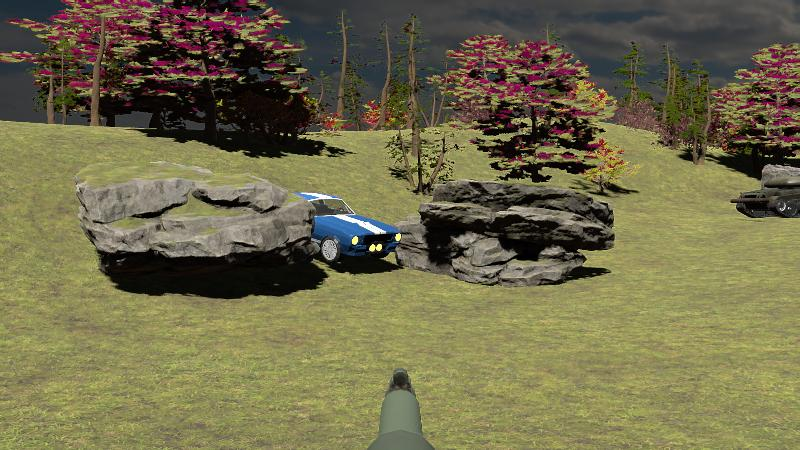Tank: (731, 172, 800, 219)
car: (259, 190, 401, 264)
